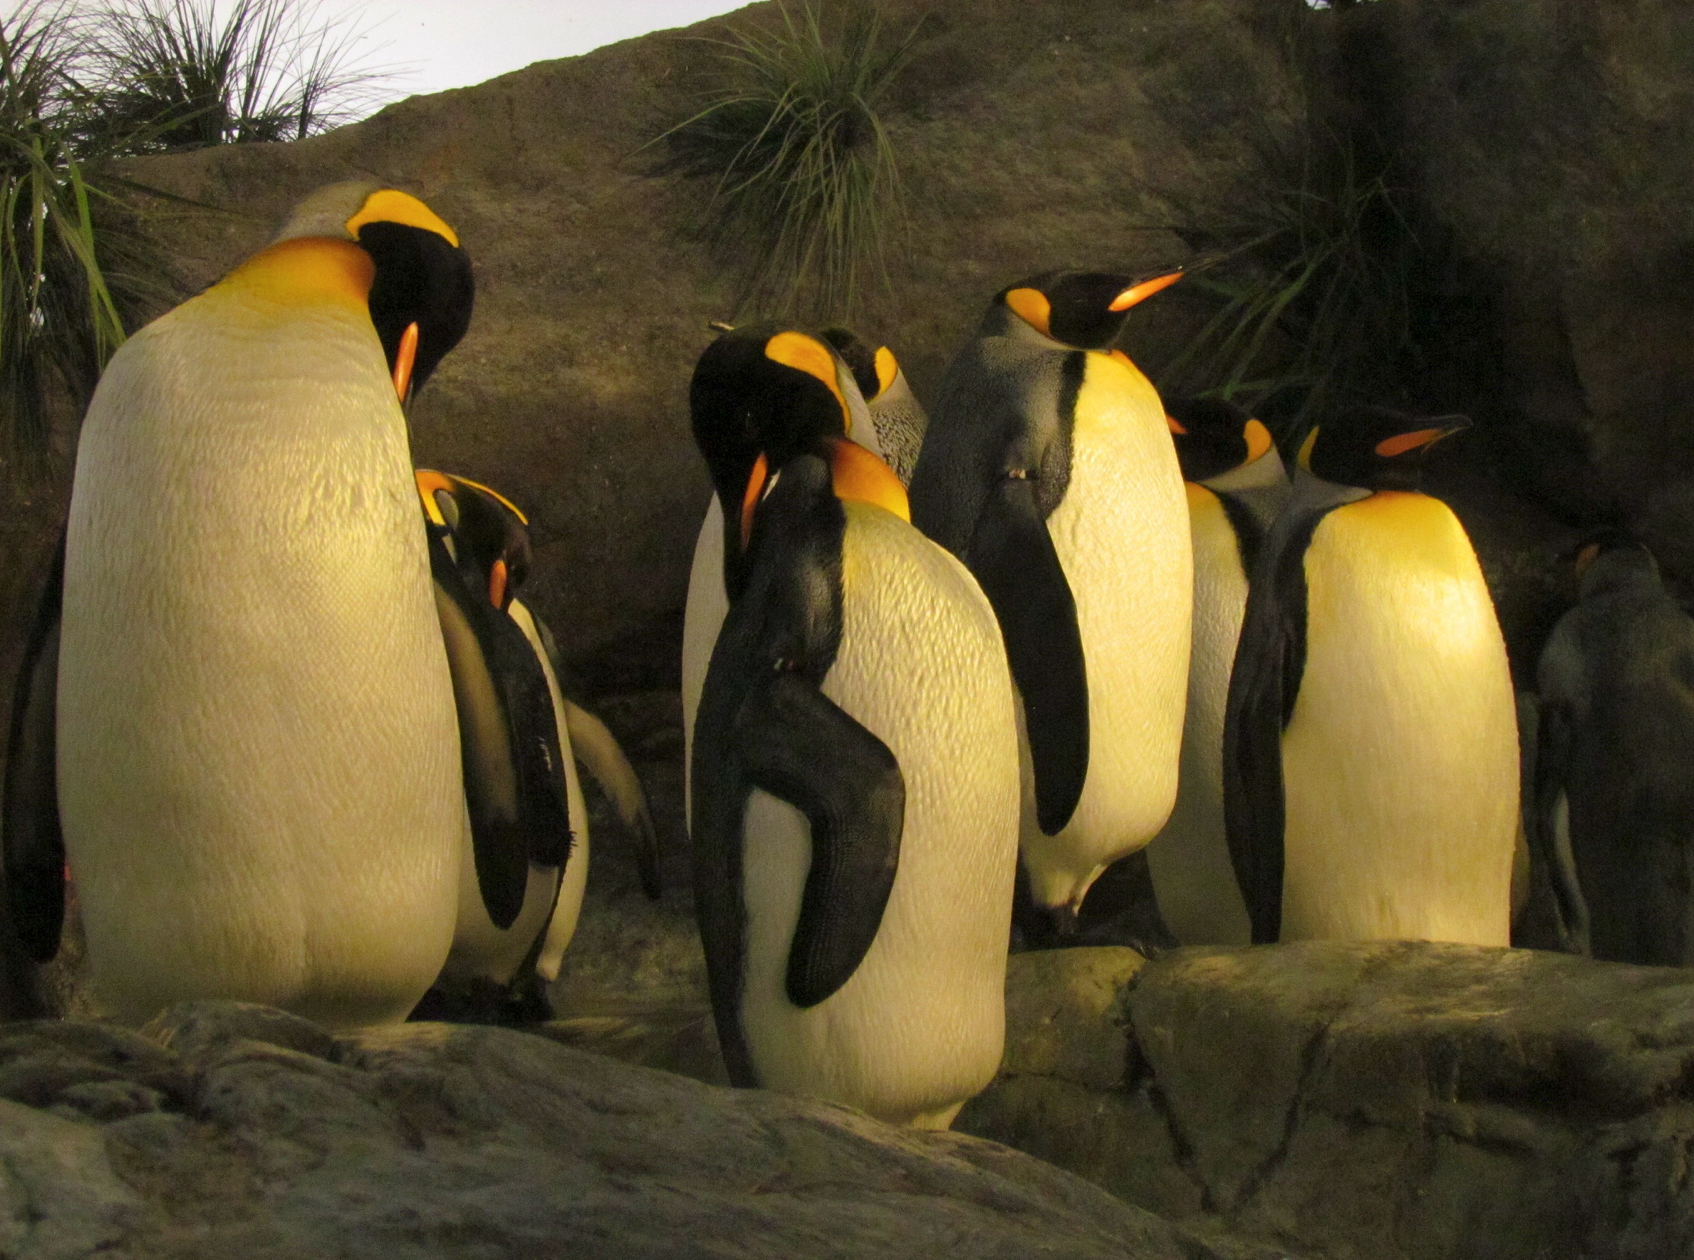penguin: (42, 176, 487, 1032), (664, 322, 1010, 1140), (1253, 420, 1552, 987), (944, 245, 1190, 920)
